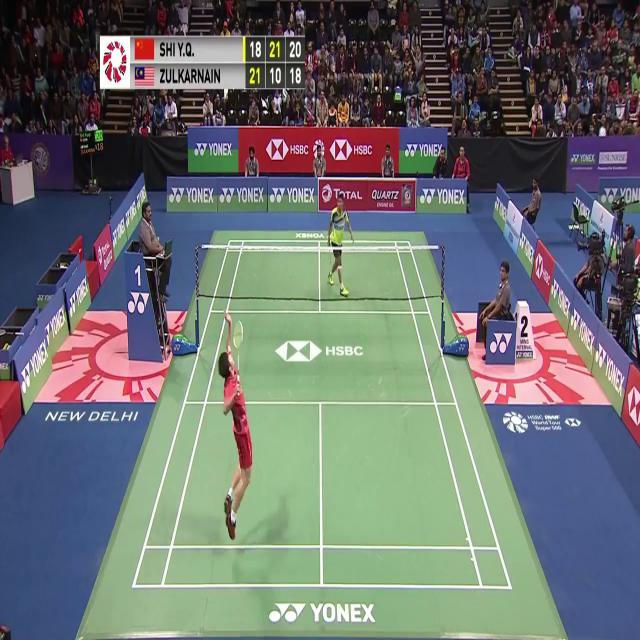Shuttlecock: (221, 90, 228, 102)
